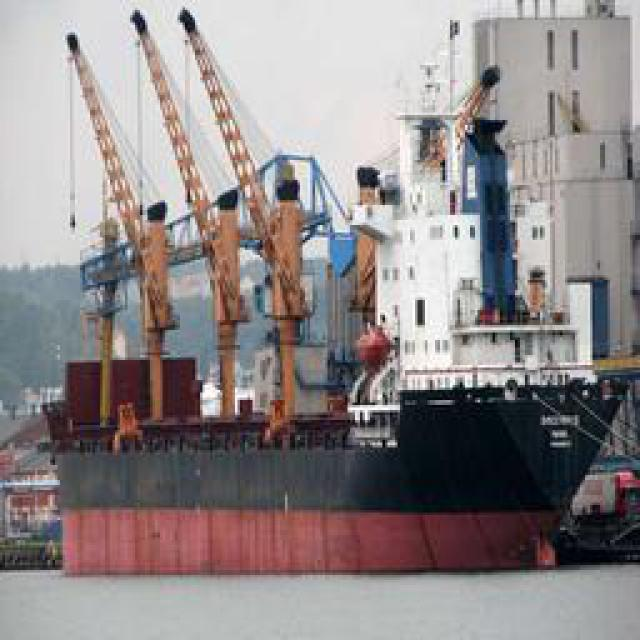Ship: (26, 350, 640, 583)
